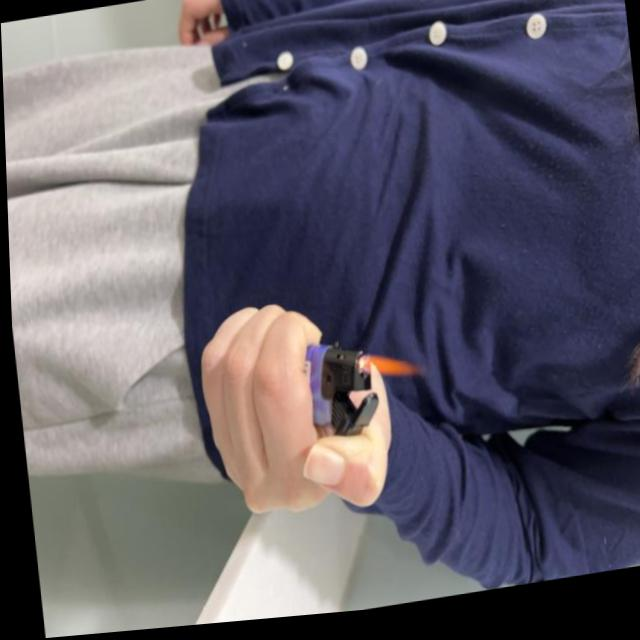Fire: (353, 351, 421, 390)
